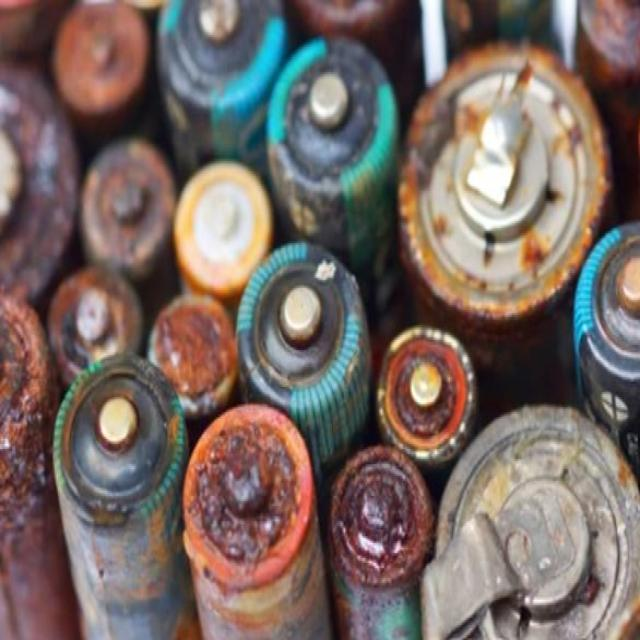electronic: (226, 248, 379, 431)
